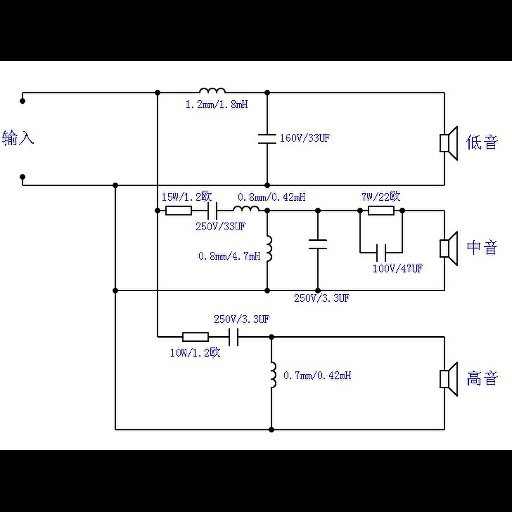capacitor: (250, 129, 280, 149), (370, 239, 393, 263), (224, 326, 243, 347), (307, 236, 331, 252), (205, 200, 220, 221)
firstresistance: (364, 203, 399, 221), (161, 203, 197, 219), (179, 331, 212, 343)
inductor: (264, 355, 281, 394), (190, 84, 230, 97), (263, 232, 279, 264), (231, 204, 262, 216)
loudspeaker: (432, 124, 464, 162), (433, 359, 463, 397), (438, 228, 462, 268)
